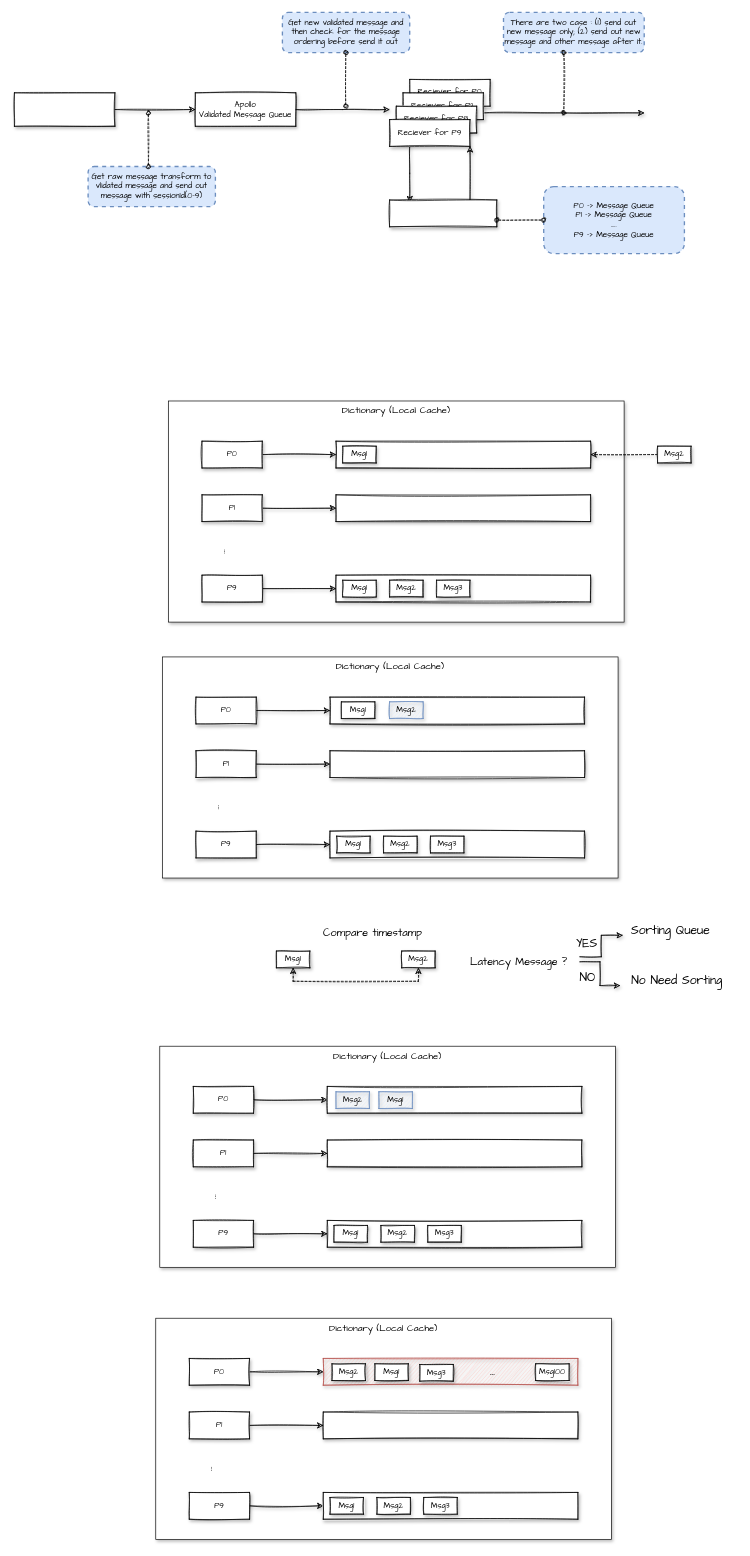
Some shapes in this 750 by 1556 pixel diagram are drawn without their labels. Each missing label, with the centre of its shape:
"Apollo Raw Message Queue" goes at pixel 65 110.
"Local Cache" goes at pixel 443 214.
